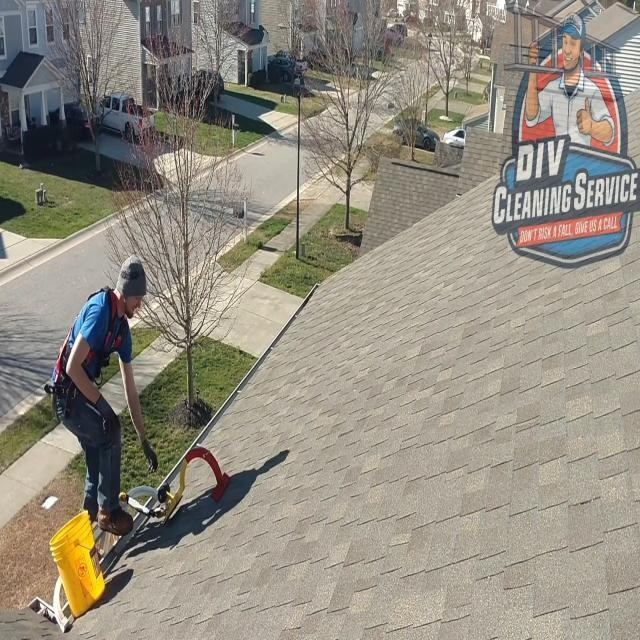Arnes_seguridad: (49, 280, 126, 429)
